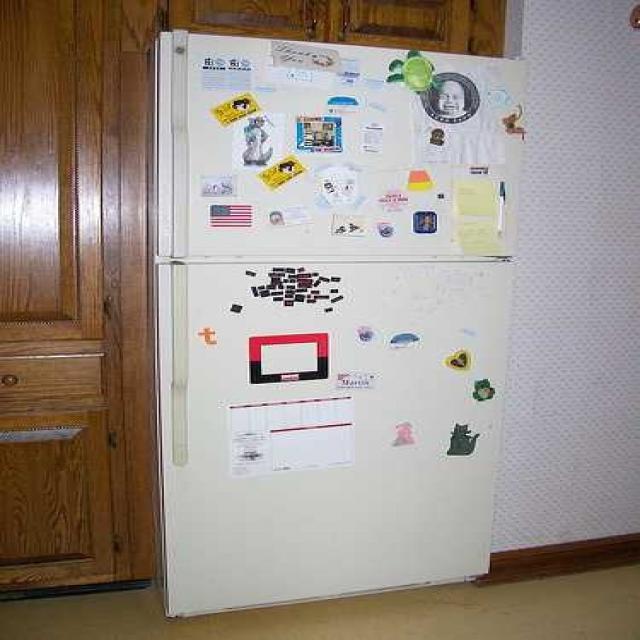refrigerator: (159, 31, 526, 621)
